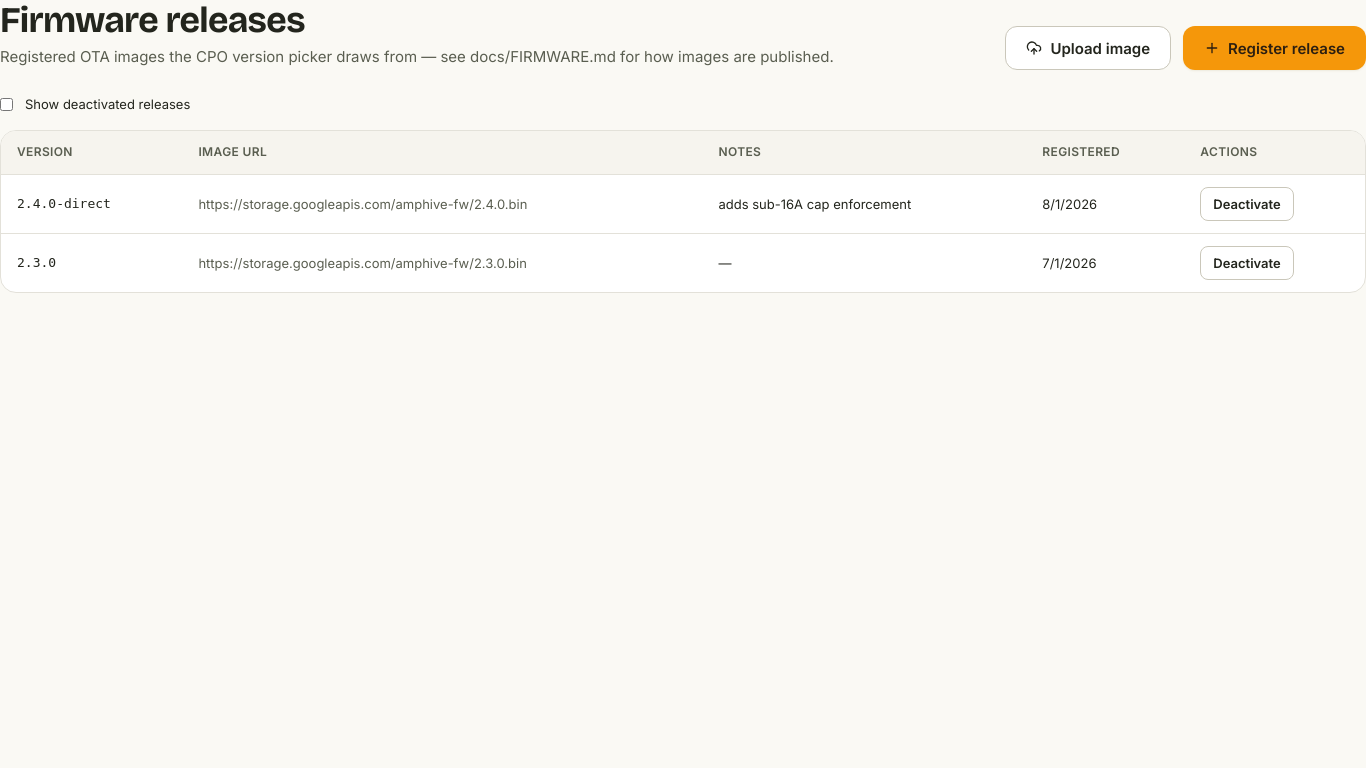
Test: AdminFirmwareReleases › surfaces a duplicate-version registration failure inline
This screenshot has width=1366, height=768.
Expected: the text "2.4.0-direct" is shown, [17, 194, 111, 214]
Click the button "Register release" at point(1275, 48), box [1183, 26, 1365, 70]
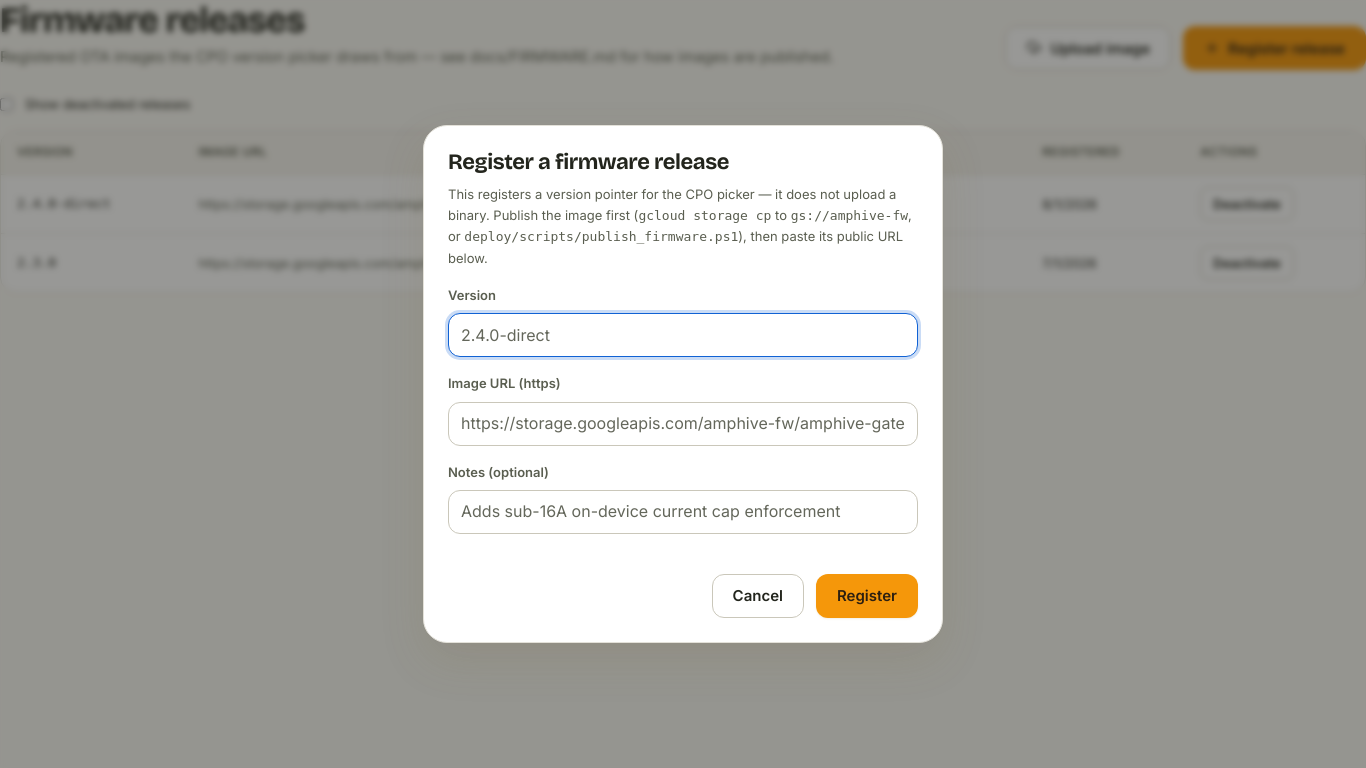
Type "2.3.0" into the field labelled "Version" at point(683, 336), box [448, 314, 918, 358]
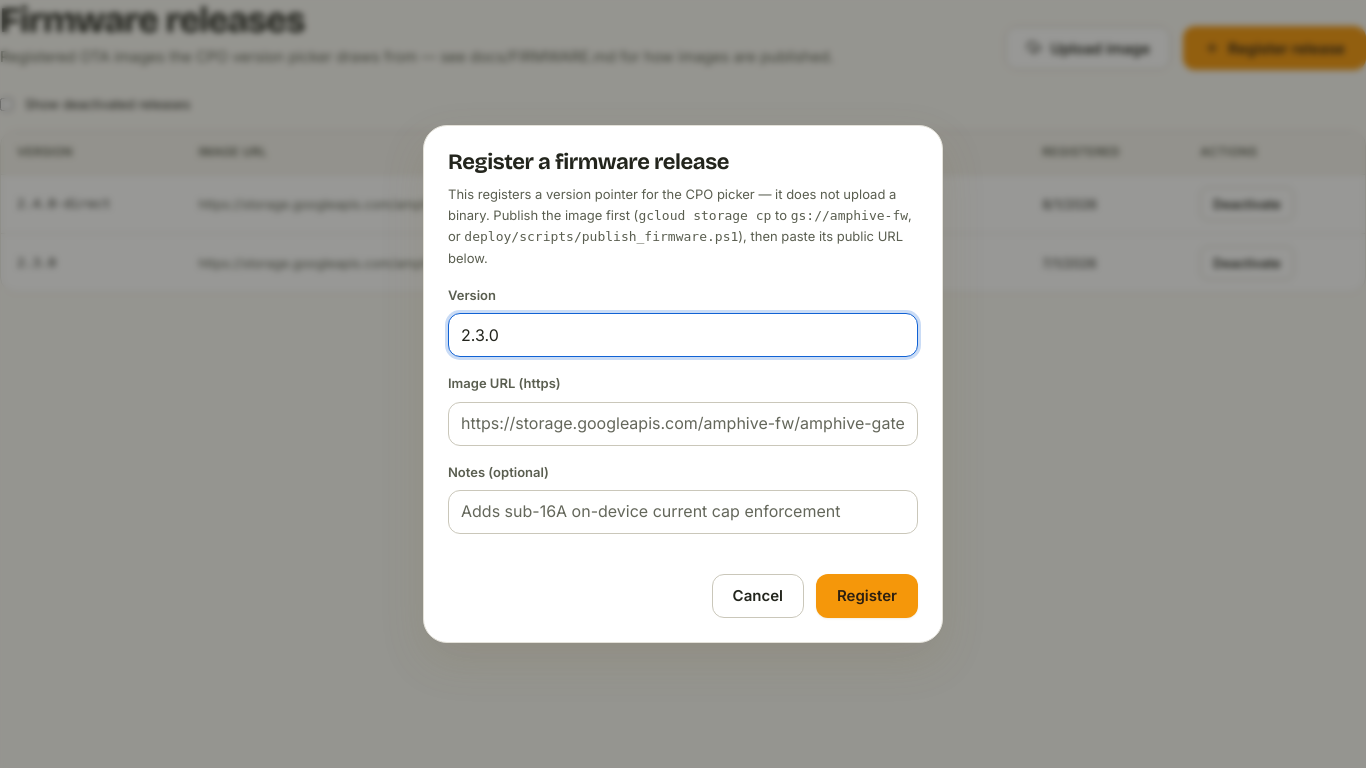
Type "https://storage.googleapis.com/amphive-fw/dup.bin" into the field labelled "Image URL (https)" at point(683, 424), box [448, 402, 918, 446]
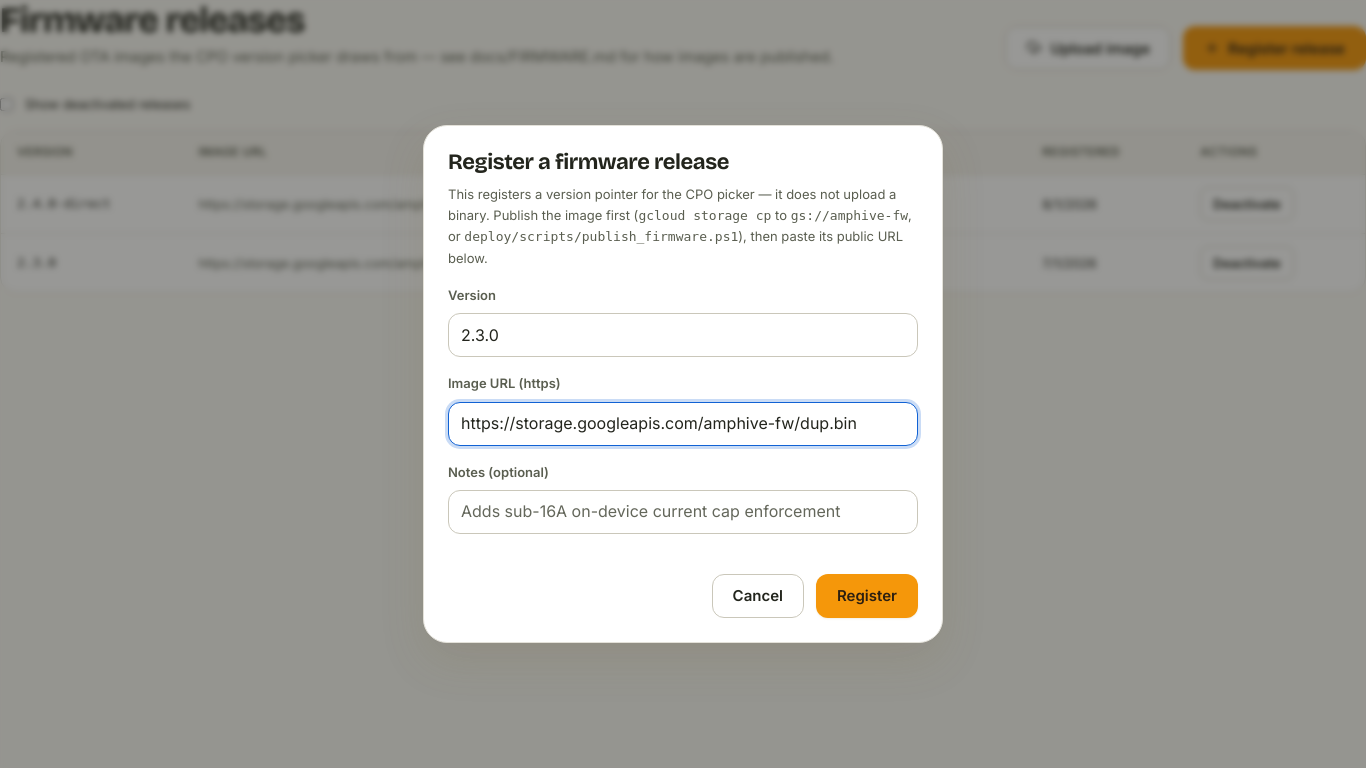
Click the button "Register" at point(867, 596), box [816, 574, 918, 618]
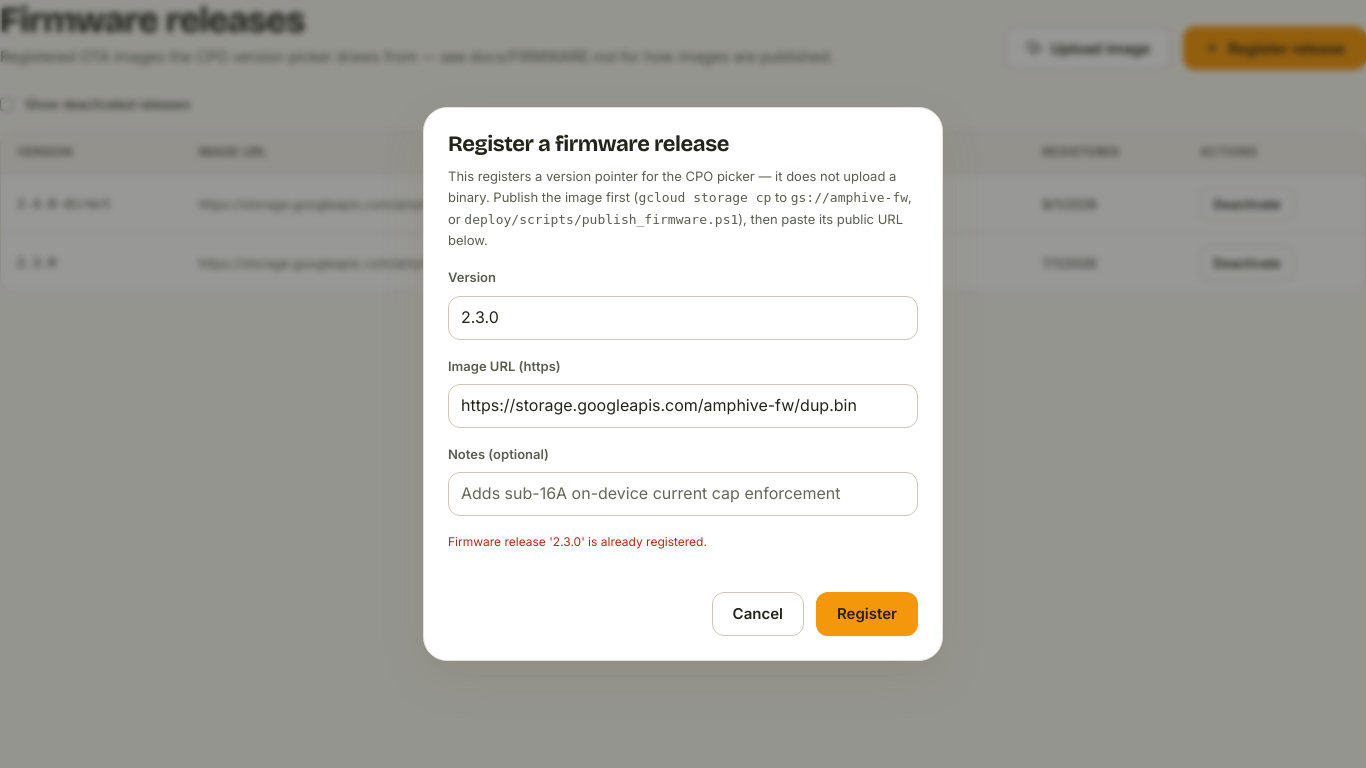
Now the text "Firmware release '2.3.0' is already registered." is shown, box [448, 534, 707, 549]
